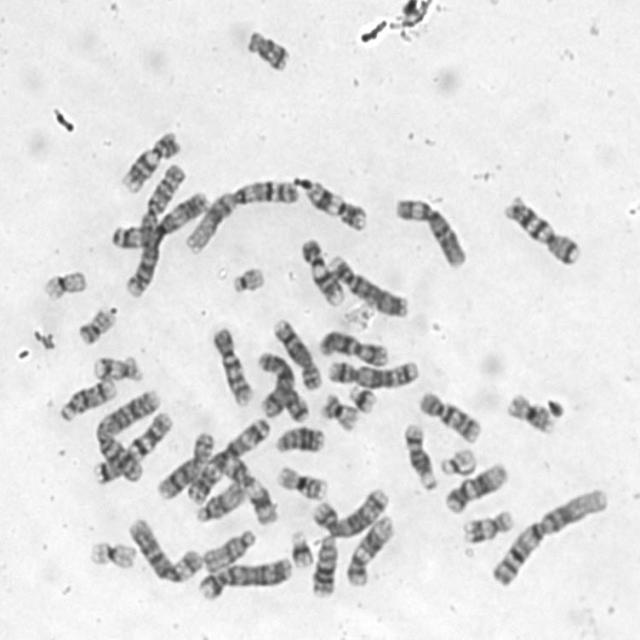A1: (490, 488, 611, 590), (183, 180, 299, 256)
A2: (123, 164, 190, 300), (93, 386, 164, 486)
A3: (184, 415, 270, 507), (110, 189, 213, 252)
B4: (324, 256, 413, 318), (198, 556, 294, 604)
B5: (311, 486, 390, 538), (328, 360, 420, 389)
C10: (210, 326, 255, 410), (416, 391, 484, 445)
C11: (220, 456, 282, 526), (306, 179, 371, 233)
C12: (343, 512, 395, 588), (442, 462, 509, 514)
C6: (392, 195, 471, 271), (128, 514, 204, 586)
C7: (497, 195, 588, 271), (92, 408, 177, 485)
C8: (158, 431, 214, 504), (269, 319, 322, 390)
C9: (118, 130, 183, 198), (299, 238, 346, 308)
D13: (308, 533, 338, 598), (274, 424, 326, 453)
D14: (59, 379, 118, 426), (404, 422, 439, 493)
D15: (198, 528, 259, 575), (193, 479, 250, 523)
E16: (506, 391, 560, 439), (272, 465, 330, 502)
E17: (459, 509, 516, 548), (90, 356, 146, 384)
E18: (240, 28, 298, 75), (278, 385, 311, 424)
F19: (39, 270, 93, 302), (88, 539, 140, 572)
F20: (317, 393, 360, 434), (76, 305, 116, 346)
G21: (346, 383, 380, 418), (288, 531, 315, 567)
G22: (441, 446, 478, 476), (231, 264, 264, 296)
X: (256, 352, 297, 419), (317, 330, 389, 367)
